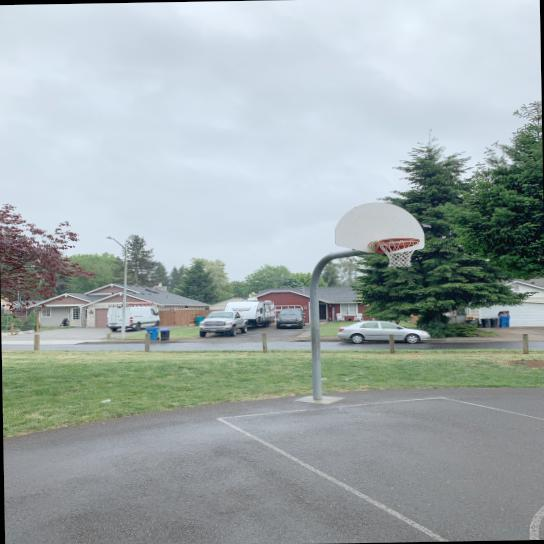basketball-hoop: (375, 236, 420, 268)
